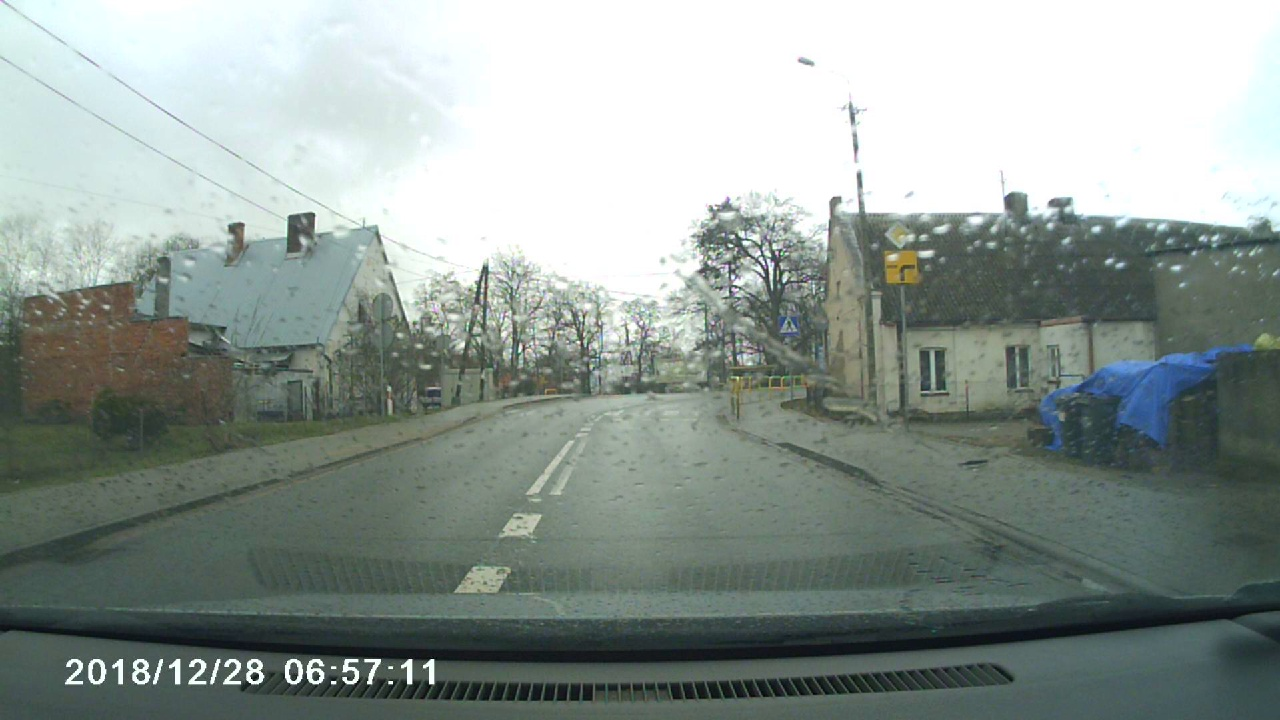D1: (881, 219, 915, 248)
D6: (772, 307, 809, 339)
